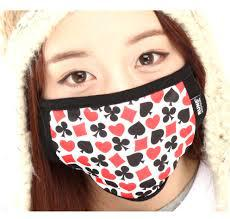OK: (44, 26, 195, 188)
